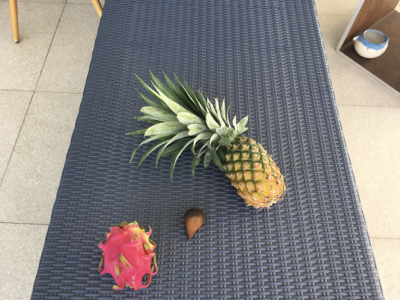dragon fruit: (99, 221, 159, 292)
pineapple: (129, 70, 287, 209)
snake fruit: (184, 208, 206, 241)
